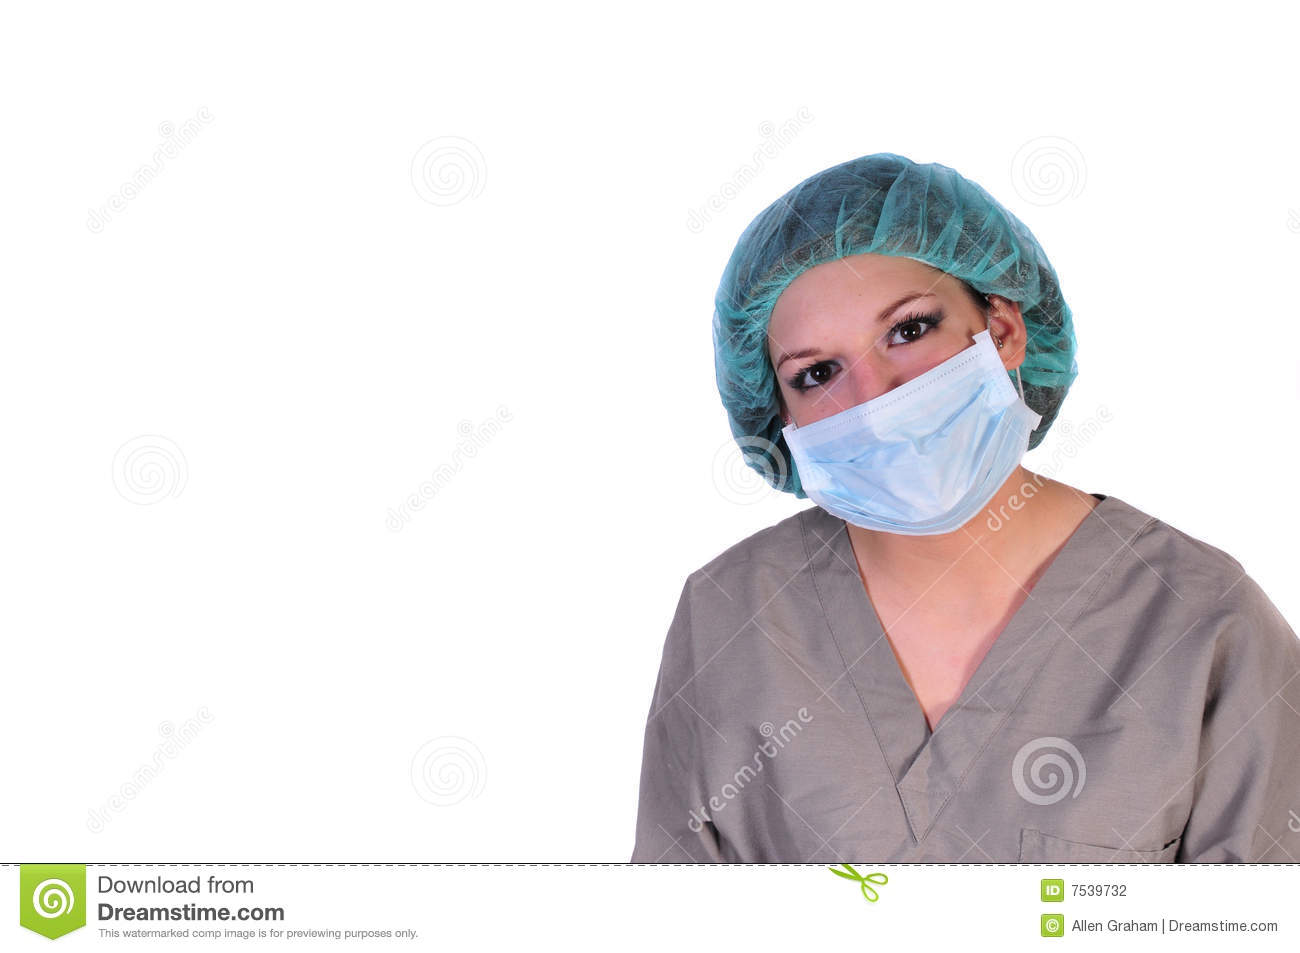mask: (782, 390, 1050, 558)
